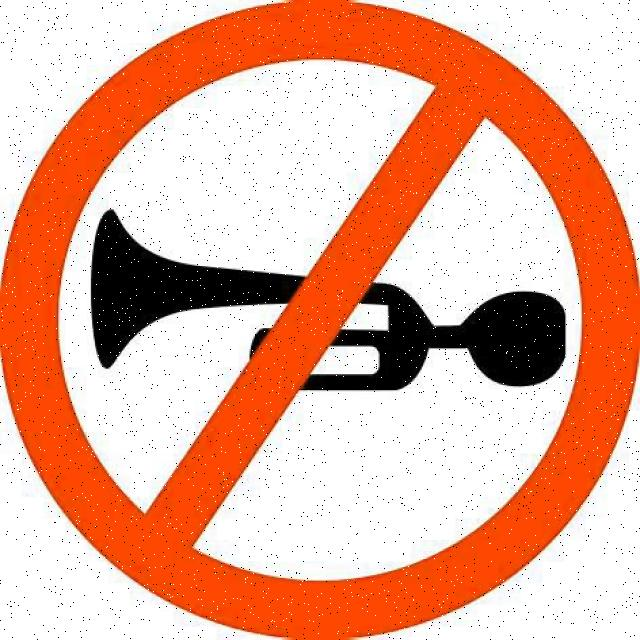No_Horn: (13, 20, 639, 640)
